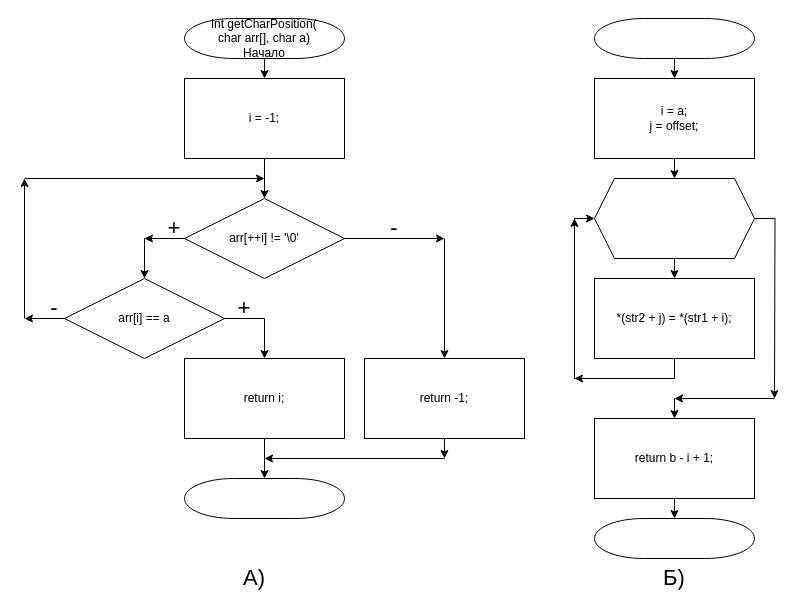
Some shapes in this 801 by 609 pixel diagram are drawn without their labels. Each missing label, with the centre of its shape:
"; i <= b; i++, j++" goes at (674,218).
"copyStr1ToStr2 Конец" goes at (674,538).
"getCharPosition Конец" goes at (264,498).
"int copyStr1ToStr2 (char *str1, int a, int b, char *str2, int offset) Начало" goes at (674,38).
